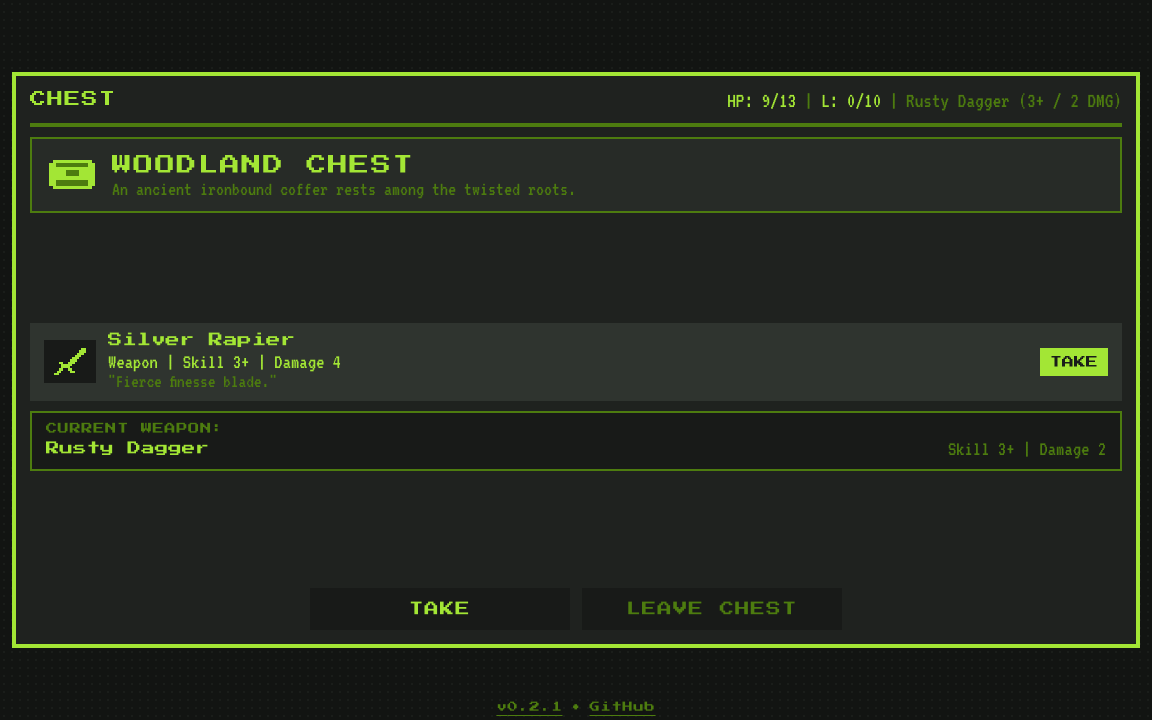
App - Screen Flows & Interactive UI › handles Chest screen: shows current weapon details when a weapon is found and replaces it on TAKE
expect the heading "WOODLAND CHEST" is shown: met, box [112,155,414,175]
expect the text "An ancient ironbound coffer rests among the twisted roots." is shown: met, box [112,179,576,199]
Click the button "TAKE". click: x=440, y=609
box: [310,588,570,630]
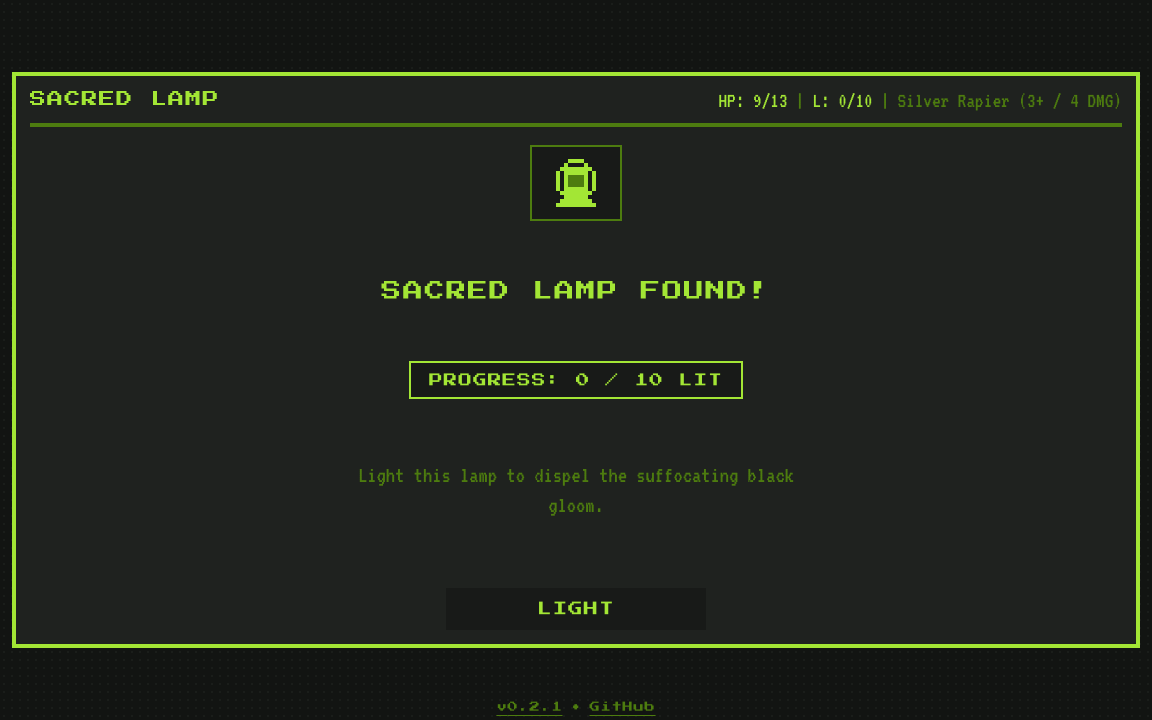
expect the heading "SACRED LAMP FOUND!" is shown: met, box [382,281,770,301]
expect the text "Silver Rapier (3+ / 4 DMG)" is shown: met, box [897,90,1122,111]
